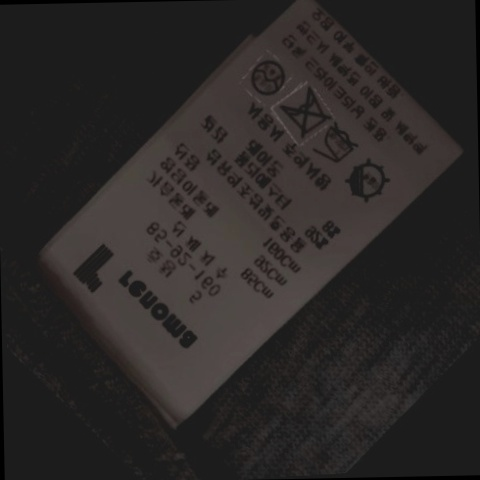DN_wash: (276, 90, 329, 135)
dry_clean_petrol_only: (246, 56, 287, 96)
iron_low: (313, 125, 360, 166)
line_dry_in_shade: (338, 161, 390, 203)
